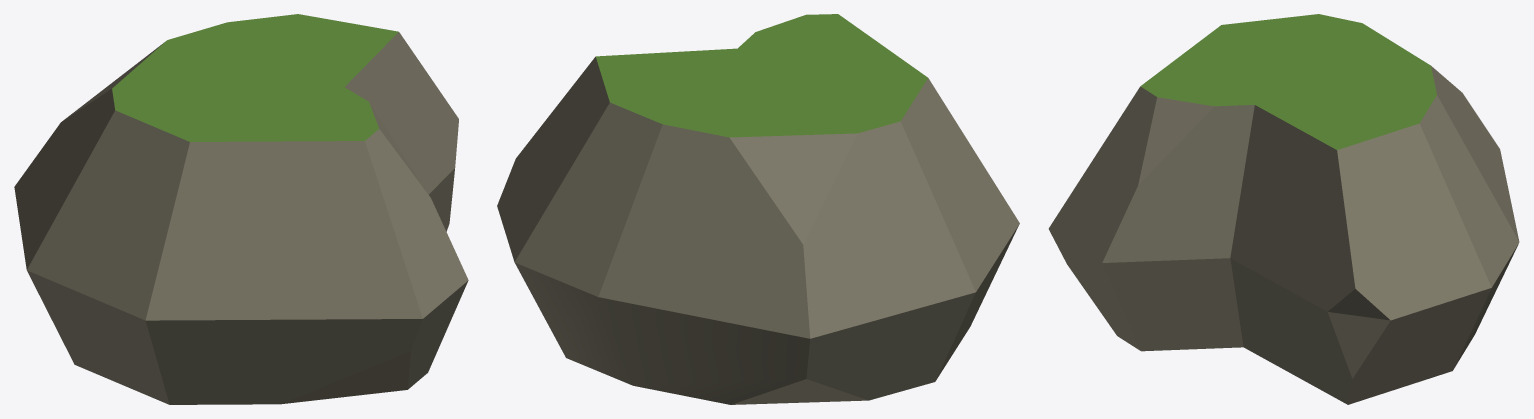
The model's file is rock_a.glb.
3 renders of one model, left to right at view 1: azimuth 30°, elevation 25°; view 2: azimuth 150°, elevation 25°; view 3: azimuth 270°, elevation 25°, orthographic. The views are drawn at different scales.
Visible parts, largest first — view 1: rock_largeD; view 2: rock_largeD; view 3: rock_largeD.
Part boxes in pixels (left/top/right/bottom): rock_largeD: left=14, top=14, right=468, bottom=404; rock_largeD: left=497, top=14, right=1019, bottom=404; rock_largeD: left=1048, top=14, right=1519, bottom=404.
Bounding box in the file's own units: 1.07 × 0.5683 × 1.03.
